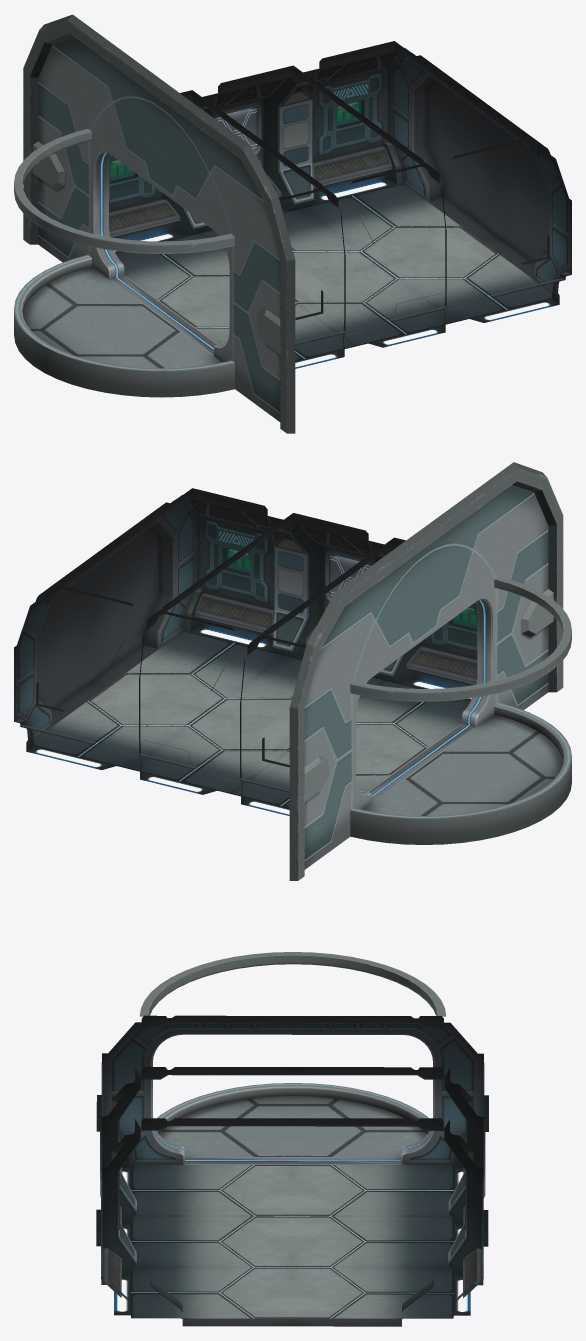
Rendered from scenealt.glb.
The picture shows the model from 3 angles, top to bottom: view 1: azimuth 30°, elevation 25°; view 2: azimuth 150°, elevation 25°; view 3: azimuth 270°, elevation 25°; orthographic projection. The views are drawn at different scales.
Visible parts, largest first — view 1: Gallery; view 2: Gallery; view 3: Gallery.
Boxes of the visible parts, x1=… form: Gallery: x1=14, y1=14, x2=571, y2=433; Gallery: x1=14, y1=462, x2=571, y2=880; Gallery: x1=96, y1=952, x2=488, y2=1326.
Size of the model in its own units: 15.43 by 8.15 by 15.53.
Materials: 3 (2 with a texture image).
